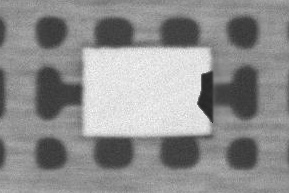DIE_BROKEN: (195, 68, 213, 124)
